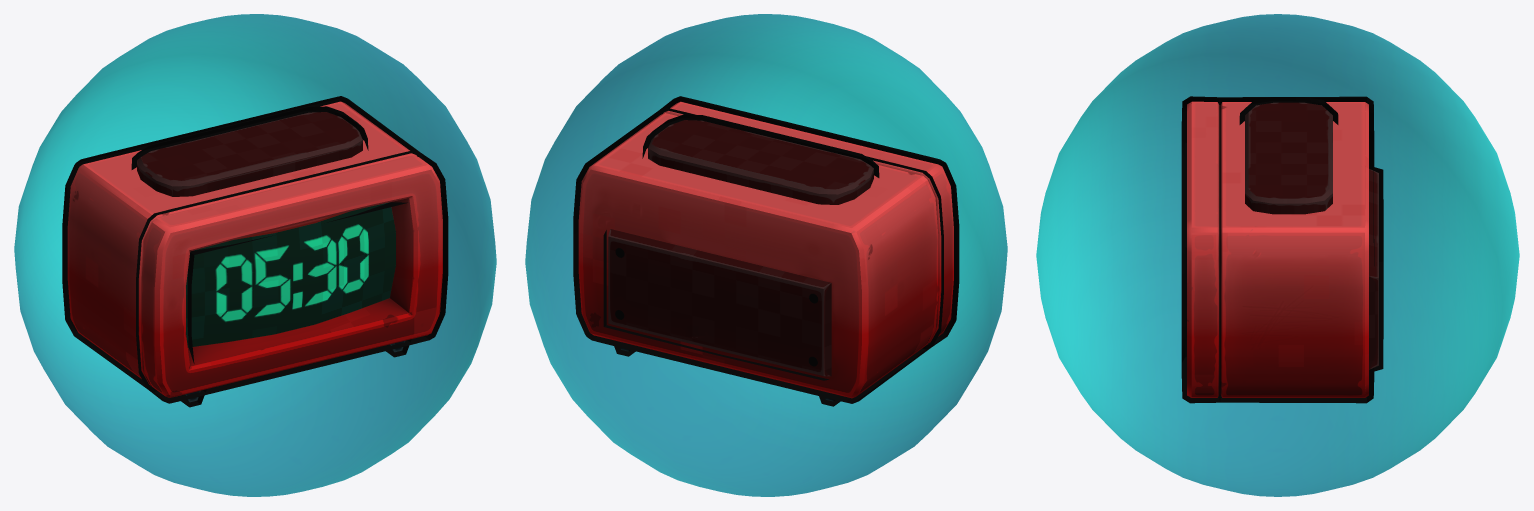
File: digital_watch.glb
3 renders of one model, left to right at view 1: azimuth 30°, elevation 25°; view 2: azimuth 150°, elevation 25°; view 3: azimuth 270°, elevation 25°, orthographic.
Parts seen in each view (by area): view 1: Sphere, watch_low.001, watch_low.002; view 2: Sphere, watch_low.001, watch_low.002; view 3: Sphere, watch_low.001, watch_low.002.
Boxes of the visible parts, x1,y1,x2,y2 form: Sphere: (14,14,496,496); watch_low.001: (67,101,442,402); watch_low.002: (62,96,448,407); Sphere: (525,14,1007,496); watch_low.001: (578,101,953,401); watch_low.002: (573,96,959,406); Sphere: (1036,14,1519,496); watch_low.001: (1187,101,1378,397); watch_low.002: (1181,96,1383,403).
Bounding box in the file's own units: 0.2878 × 0.2878 × 0.2878.
Materials: 3 (2 with a texture image).
